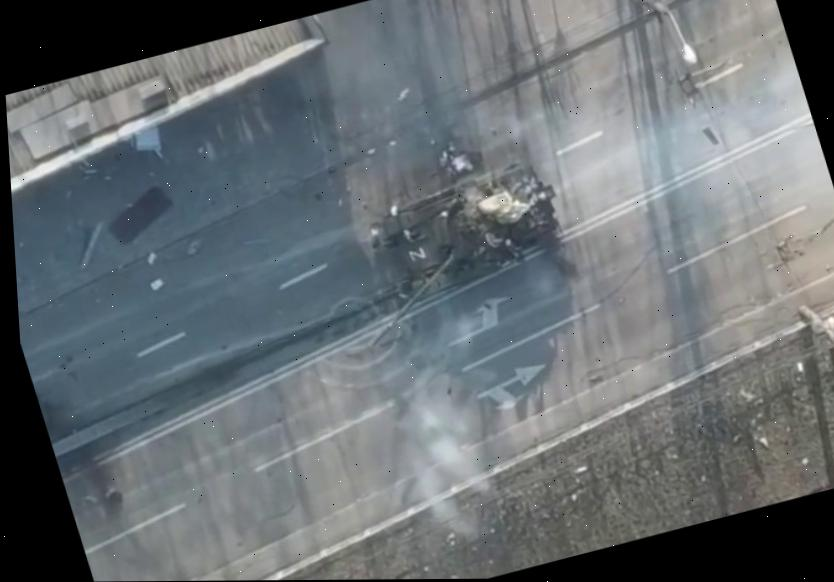tank: (324, 155, 590, 349)
